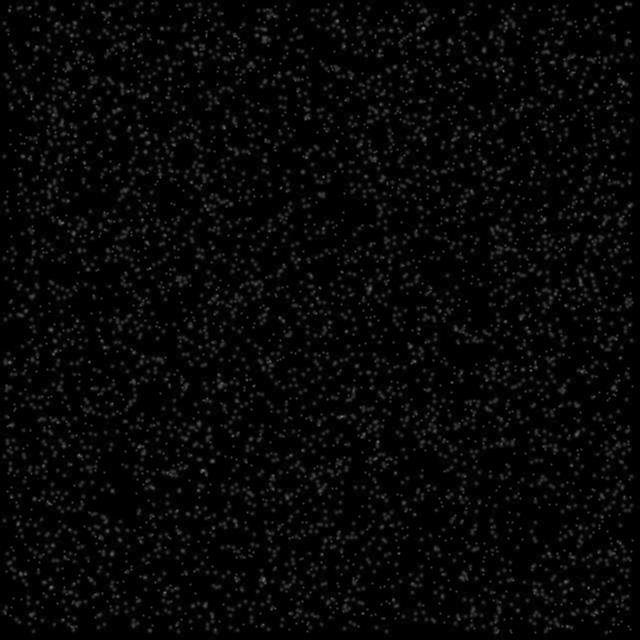nothing: (6, 4, 634, 634)
